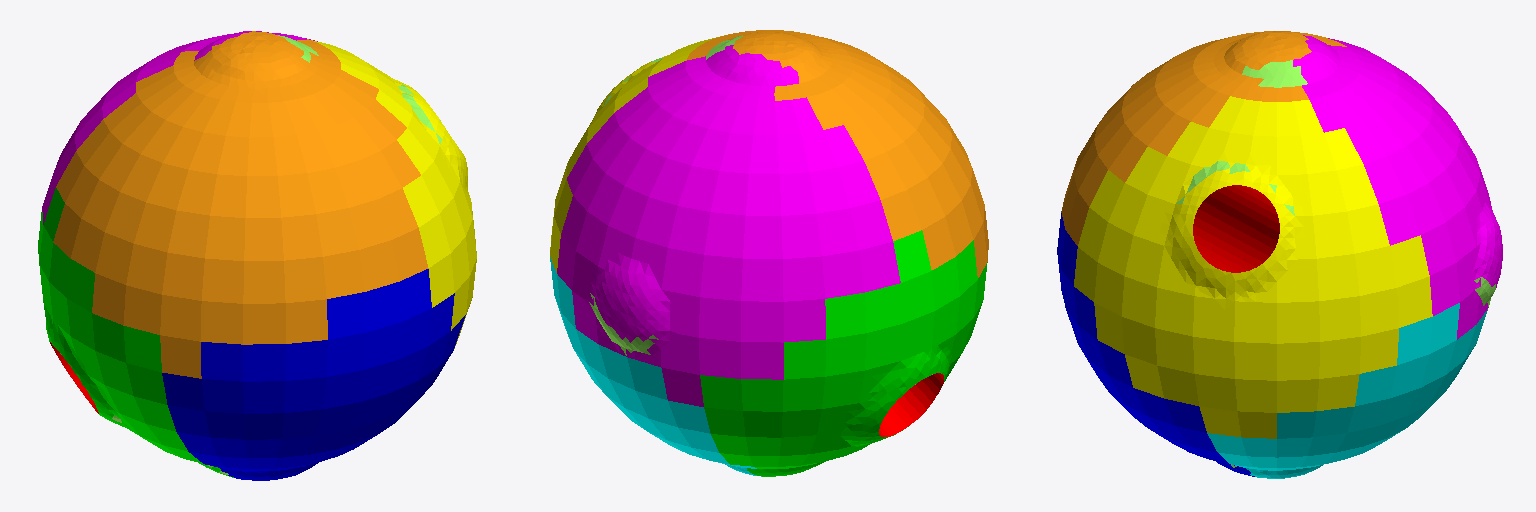
3 renders of one model, left to right at view 1: azimuth 30°, elevation 25°; view 2: azimuth 150°, elevation 25°; view 3: azimuth 270°, elevation 25°, orthographic.
Visible parts, largest first — view 1: planet_球; view 2: planet_球; view 3: planet_球.
Boxes of the visible parts, <box> form: planet_球: <box>38,31,476,480</box>; planet_球: <box>550,30,988,476</box>; planet_球: <box>1057,31,1502,478</box>.
Size of the model in its own units: 2 by 2.14 by 2.03.
1 materials, 1 textured.